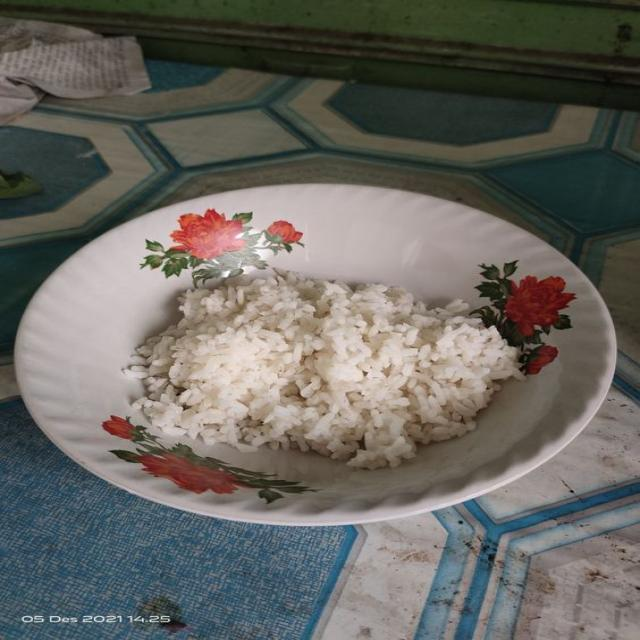nasi_putih: (117, 255, 536, 494)
